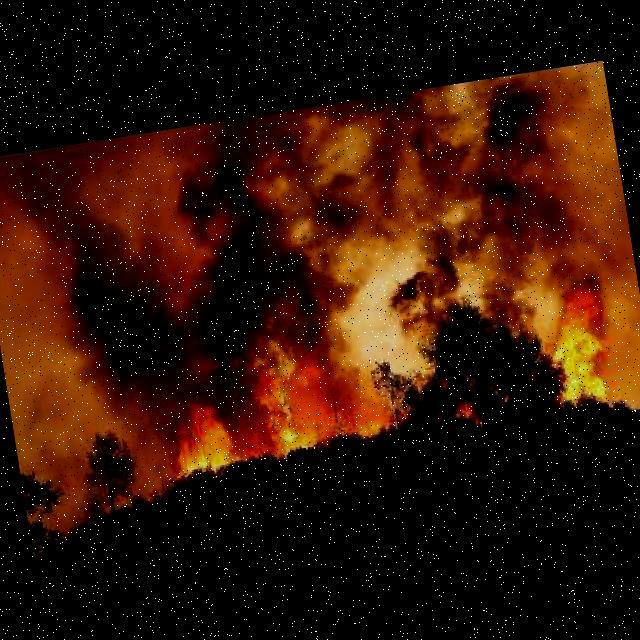Fire: (143, 265, 626, 480)
